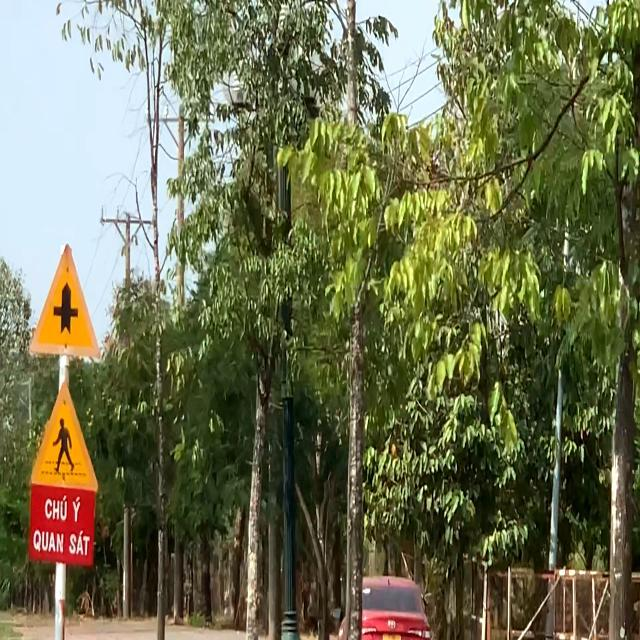W-207a: (23, 242, 98, 361)
W-224: (26, 376, 101, 494)
